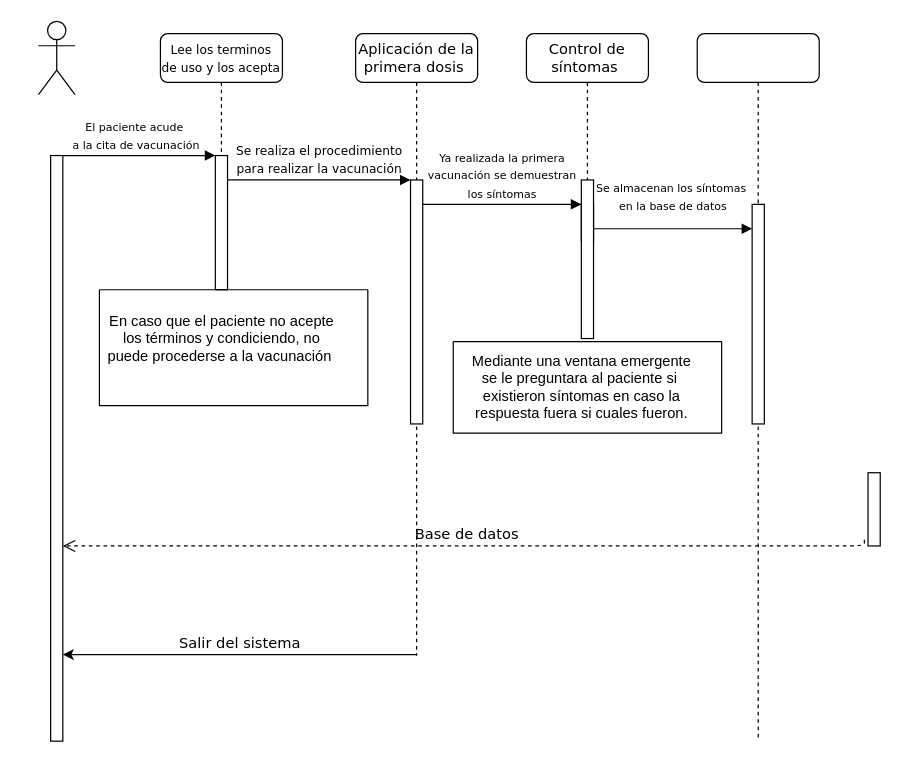
Image size: 902x763. Some labels were removed from this diagram. Here are the shapes that lost their labels. From the top down, the box of each, then its label:
(37, 20, 75, 95): PACIENTE
(696, 32, 819, 741): Aplicación de la segunda dosis
